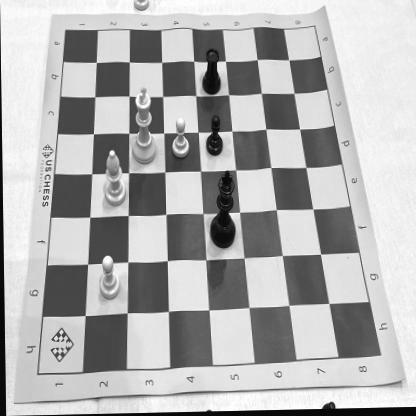black-king: (207, 169, 238, 254)
black-pawn: (204, 116, 223, 162)
black-rook: (199, 47, 223, 98)
white-bishop: (101, 148, 128, 208)
white-king: (132, 86, 158, 167)
white-pawn: (98, 253, 121, 302), (170, 114, 191, 162)
